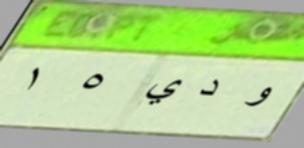1: (25, 62, 42, 95)
5: (80, 70, 108, 94)
daal: (197, 74, 222, 106)
waw: (239, 79, 276, 112)
yaa: (146, 78, 183, 108)
